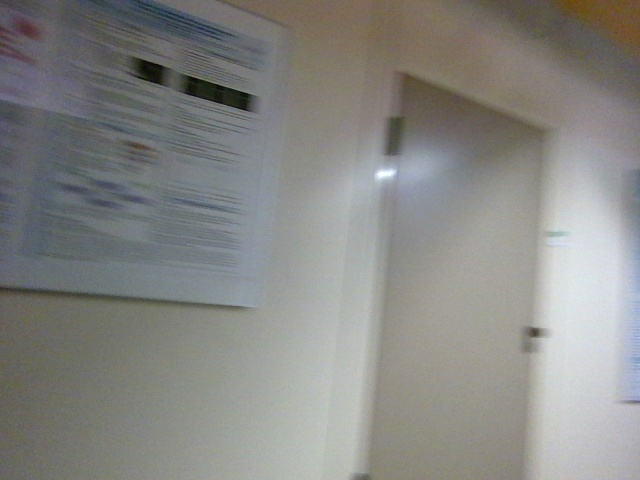door_single: (365, 63, 544, 479)
